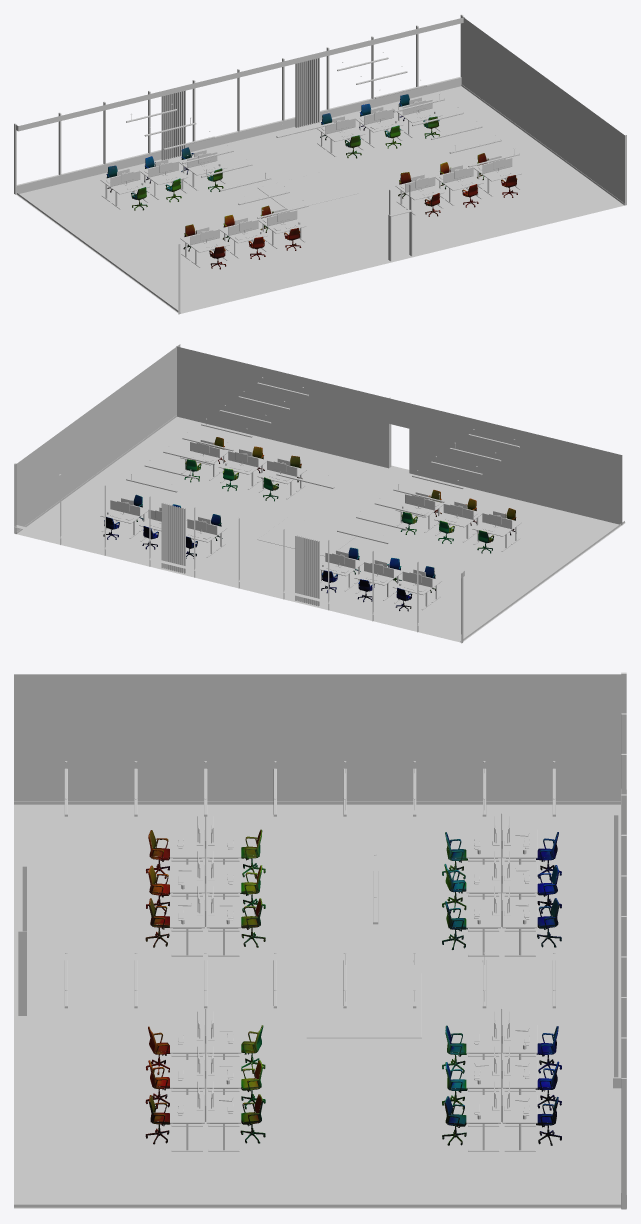
Rendered from office.glb.
3 views of the same model, one above another, from view 1: azimuth 30°, elevation 25°; view 2: azimuth 150°, elevation 25°; view 3: azimuth 270°, elevation 25° (orthographic). The views are drawn at different scales.
Visible parts, largest first — view 1: floor, wall, mullion, deskTop, chairs, oak, metal, panel, screen, fixture, rug, steel; view 2: floor, wall, deskTop, chairs, oak, mullion, panel, metal, fixture, screen, rug; view 3: floor, wall, deskTop, chairs, metal, rug, fixture, mullion, screen, oak, paper, panel (+1 smaller).
Boxes of the visible parts, x1,y1,x2,y2 form: floor: [16, 86, 624, 313]; wall: [16, 15, 626, 314]; mullion: [14, 14, 463, 194]; deskTop: [100, 104, 521, 252]; chairs: [106, 94, 517, 269]; oak: [161, 58, 319, 160]; metal: [17, 84, 624, 313]; panel: [110, 99, 512, 244]; screen: [117, 97, 511, 247]; fixture: [126, 52, 519, 218]; rug: [257, 170, 359, 209]; steel: [388, 209, 412, 261]; floor: [17, 416, 625, 642]; wall: [14, 344, 622, 642]; deskTop: [100, 447, 521, 594]; chairs: [103, 437, 516, 611]; oak: [161, 503, 319, 606]; mullion: [14, 463, 463, 643]; panel: [110, 441, 512, 587]; metal: [16, 415, 624, 642]; fixture: [126, 377, 519, 543]; screen: [110, 439, 505, 590]; rug: [257, 517, 359, 556]; floor: [14, 804, 620, 1208]; wall: [14, 674, 623, 1088]; deskTop: [170, 829, 537, 1123]; chairs: [145, 829, 561, 1145]; metal: [14, 763, 620, 1207]; rug: [306, 973, 421, 1038]; fixture: [64, 761, 555, 1008]; mullion: [621, 672, 626, 1209]; screen: [177, 816, 529, 1115]; oak: [614, 815, 618, 1077]; paper: [178, 831, 529, 1119]; panel: [205, 813, 502, 1121].
Bounding box in the file's own units: 22.1 × 3.3 × 14.07.
